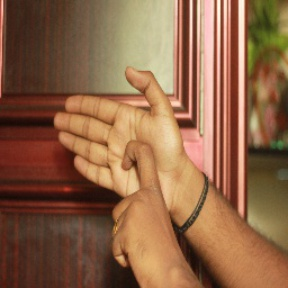R: (50, 64, 193, 271)
